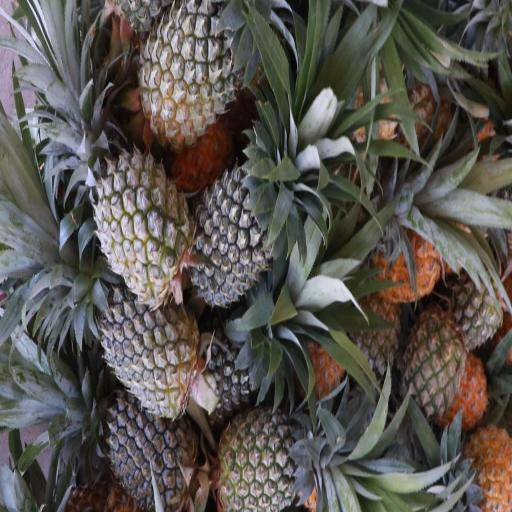------------------------------: (144, 1, 250, 135), (99, 150, 187, 302), (218, 411, 313, 512), (403, 305, 468, 409)
Pineapple - v8 v1: (378, 205, 445, 300), (457, 431, 512, 512)
